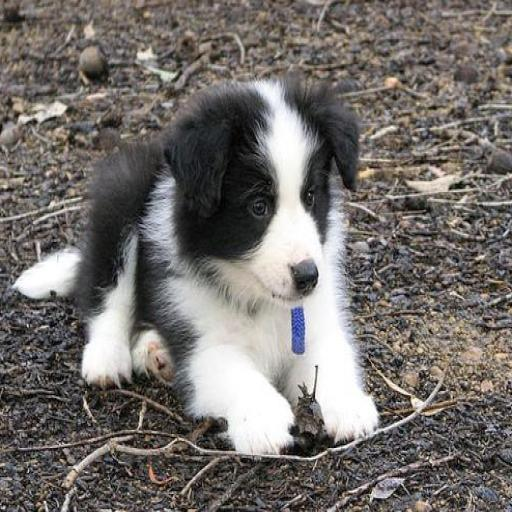dog_face: (180, 76, 359, 312)
